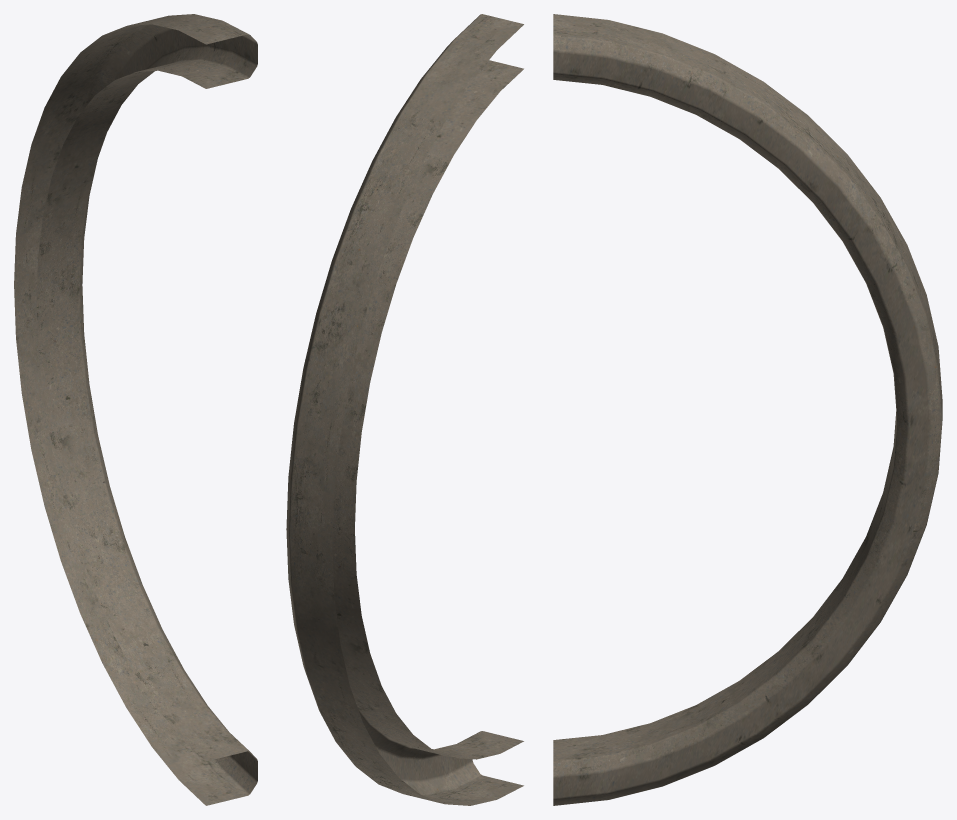
File: cP_GardenLiner01_Curve90_Plain.dae
3 renders of one model, left to right at view 1: azimuth 30°, elevation 25°; view 2: azimuth 150°, elevation 25°; view 3: azimuth 270°, elevation 25°, orthographic.
Visible parts, largest first — view 1: cP_GardenLiner01_Curve90_Plain.001; view 2: cP_GardenLiner01_Curve90_Plain.001; view 3: cP_GardenLiner01_Curve90_Plain.001.
Part boxes in pixels (x1,y1,x2,y2): cP_GardenLiner01_Curve90_Plain.001: (14,14,257,805); cP_GardenLiner01_Curve90_Plain.001: (286,14,523,805); cP_GardenLiner01_Curve90_Plain.001: (553,14,942,805).
Size of the model in its own units: 0.2272 by 1.46 by 3.19.
